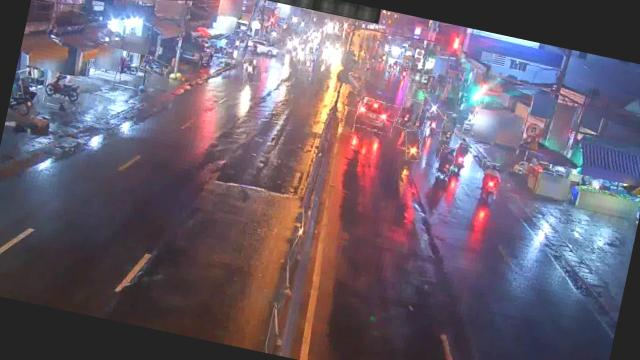Bike: (42, 72, 86, 110), (475, 161, 502, 199), (396, 96, 423, 132), (433, 145, 458, 178), (451, 144, 474, 178), (402, 128, 424, 162), (240, 55, 264, 84), (440, 112, 460, 146), (140, 55, 170, 76), (412, 105, 428, 130), (426, 111, 440, 135)
Car: (354, 97, 398, 134)
